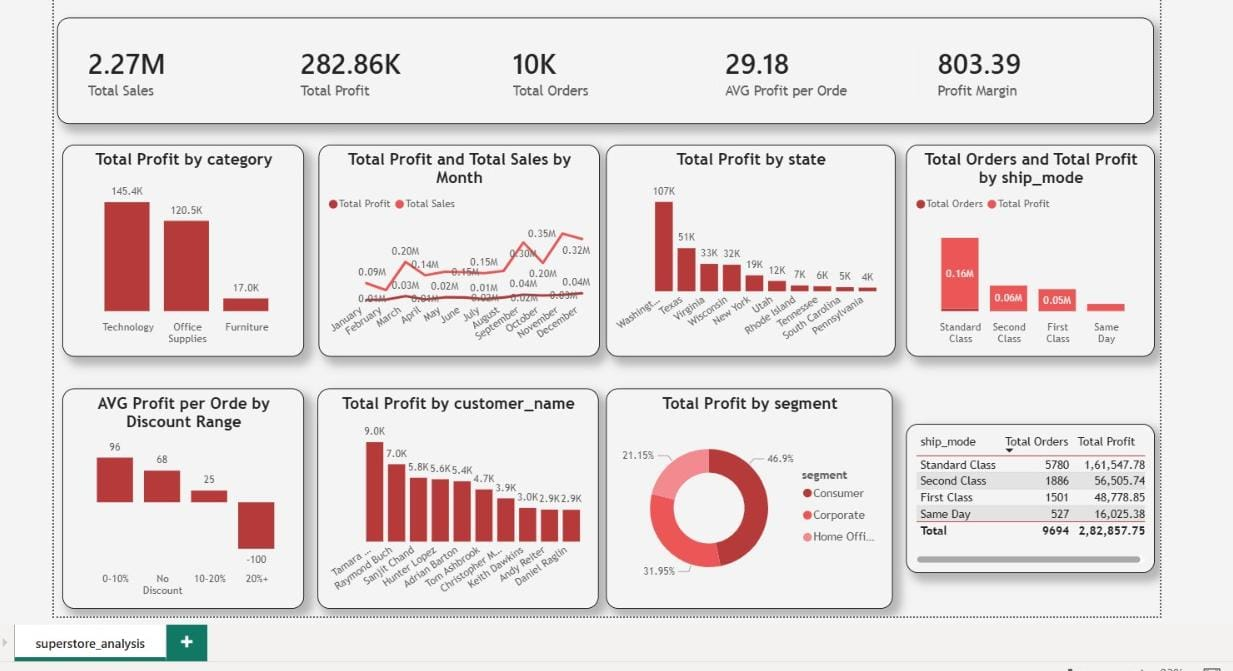

The page's visual inventory and layout, read from the dashboard file:
{"tool":"powerbi","page":{"name":"superstore_analysis","canvas":[1280,720],"ordinal":0},"visuals":[{"type":"cardVisual","fields":{"Data":["superstore_analysis orders.Total Sales","superstore_analysis orders.Total Profit","superstore_analysis orders.Total Orders","superstore_analysis orders.AVG Profit per Orde","superstore_analysis orders.Profit Mardin"]},"box":[4.1,26.1,1270.7,123.5],"z":0},{"type":"columnChart","fields":{"Category":["superstore_analysis products.category"],"Y":["superstore_analysis orders.Total Profit"]},"box":[9.6,174.3,279.9,245.6],"z":1},{"type":"lineChart","fields":{"Y":["superstore_analysis orders.Total Profit","superstore_analysis orders.Total Sales"],"Category":["superstore_analysis orders.order_date.Variation.Date Hierarchy.Month"]},"box":[306,174.3,325.2,245.6],"z":2},{"type":"columnChart","fields":{"Y":["superstore_analysis orders.AVG Profit per Orde"],"Category":["superstore_analysis orders.Discount Range"]},"box":[9.6,455.6,279.9,255.2],"z":3},{"type":"columnChart","fields":{"Category":["superstore_analysis customers.customer_name"],"Y":["superstore_analysis orders.Total Profit"]},"box":[304.6,455.6,325.2,255.2],"z":4},{"type":"columnChart","fields":{"Y":["superstore_analysis orders.Total Profit"],"Category":["superstore_analysis customers.state"]},"box":[639.5,174.3,334.8,245.6],"z":5},{"type":"columnChart","fields":{"Category":["superstore_analysis orders.ship_mode"],"Y":["superstore_analysis orders.Total Orders","superstore_analysis orders.Total Profit"]},"box":[986.6,174.3,288.2,245.6],"z":6},{"type":"donutChart","fields":{"Category":["superstore_analysis customers.segment"],"Y":["superstore_analysis orders.Total Profit"]},"box":[639.5,455.6,332.1,255.2],"z":7},{"type":"tableEx","fields":{"Values":["superstore_analysis orders.ship_mode","superstore_analysis orders.Total Orders","superstore_analysis orders.Total Profit"]},"box":[986.6,496.7,288.2,172.9],"z":8}]}

Visuals, with their boxes on the page's 1280x720 design canvas (x1, y1, x2, y2). These are canvas units, not pixel positions in the 1233x671 screenshot, which may show the page scaled, cropped or inside an application window:
cardVisual - superstore_analysis orders.Total Sales x superstore_analysis orders.Total Profit: (4, 26, 1275, 150)
columnChart - superstore_analysis products.category x superstore_analysis orders.Total Profit: (10, 174, 290, 420)
lineChart - superstore_analysis orders.Total Profit x superstore_analysis orders.Total Sales: (306, 174, 631, 420)
columnChart - superstore_analysis orders.AVG Profit per Orde x superstore_analysis orders.Discount Range: (10, 456, 290, 711)
columnChart - superstore_analysis customers.customer_name x superstore_analysis orders.Total Profit: (305, 456, 630, 711)
columnChart - superstore_analysis orders.Total Profit x superstore_analysis customers.state: (640, 174, 974, 420)
columnChart - superstore_analysis orders.ship_mode x superstore_analysis orders.Total Orders: (987, 174, 1275, 420)
donutChart - superstore_analysis customers.segment x superstore_analysis orders.Total Profit: (640, 456, 972, 711)
tableEx - superstore_analysis orders.ship_mode x superstore_analysis orders.Total Orders: (987, 497, 1275, 670)
